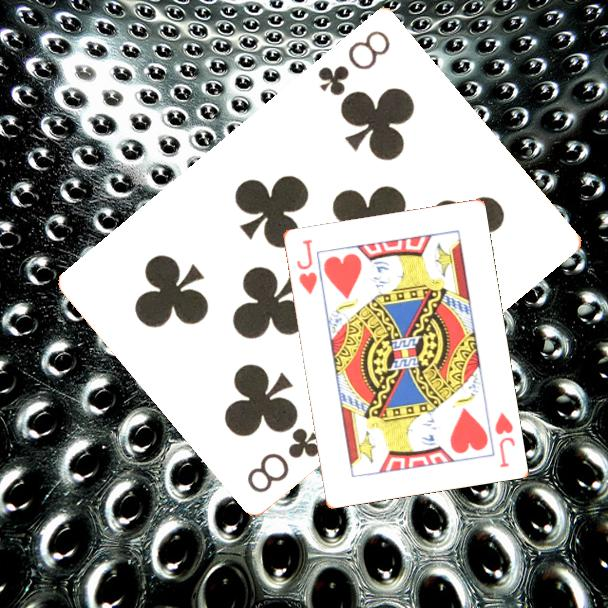c08: (314, 25, 394, 98), (243, 423, 323, 495)
h11: (491, 408, 518, 470), (293, 236, 320, 297)
